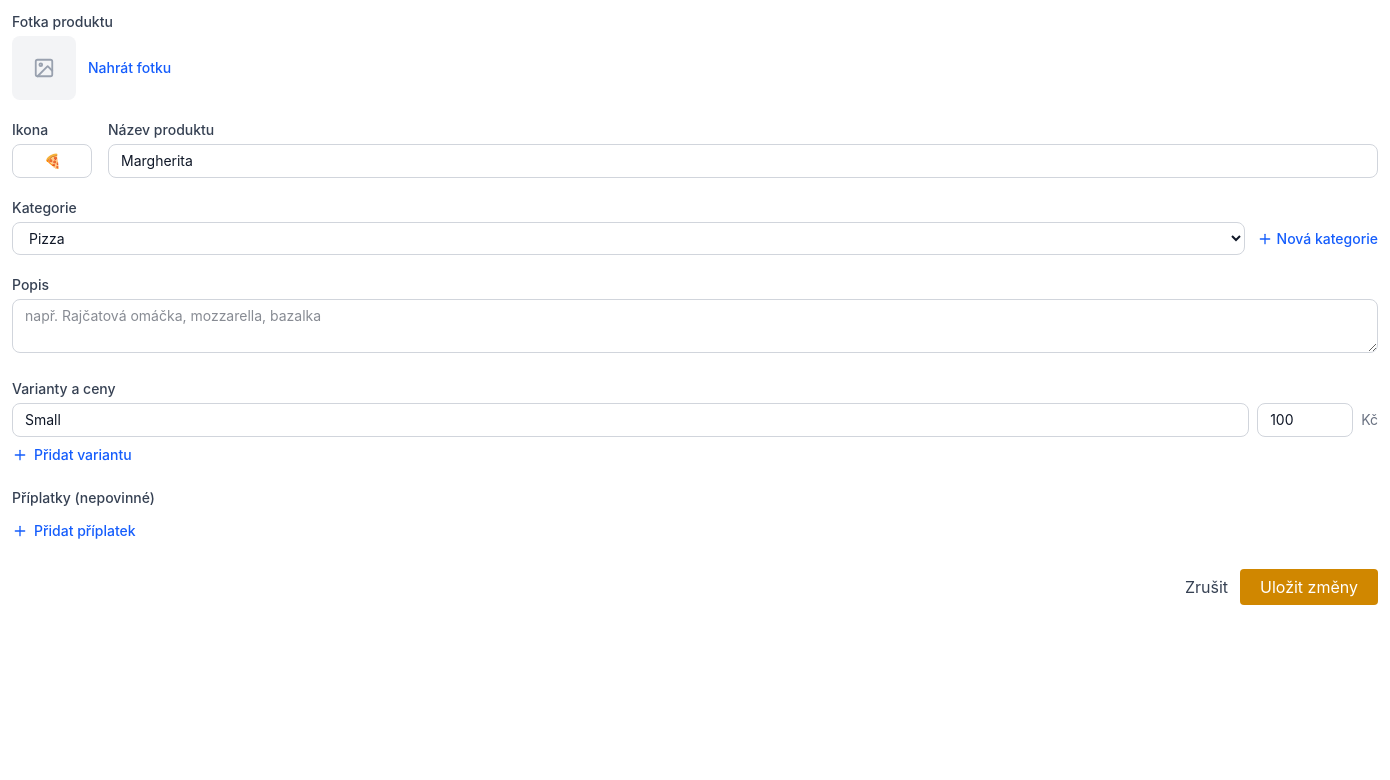
ProductForm price input › clearing an existing price empties the field instead of snapping back to 0
Step 1. Click the number field → [1305, 420], box top-left (1257, 403), bottom-right (1353, 437)
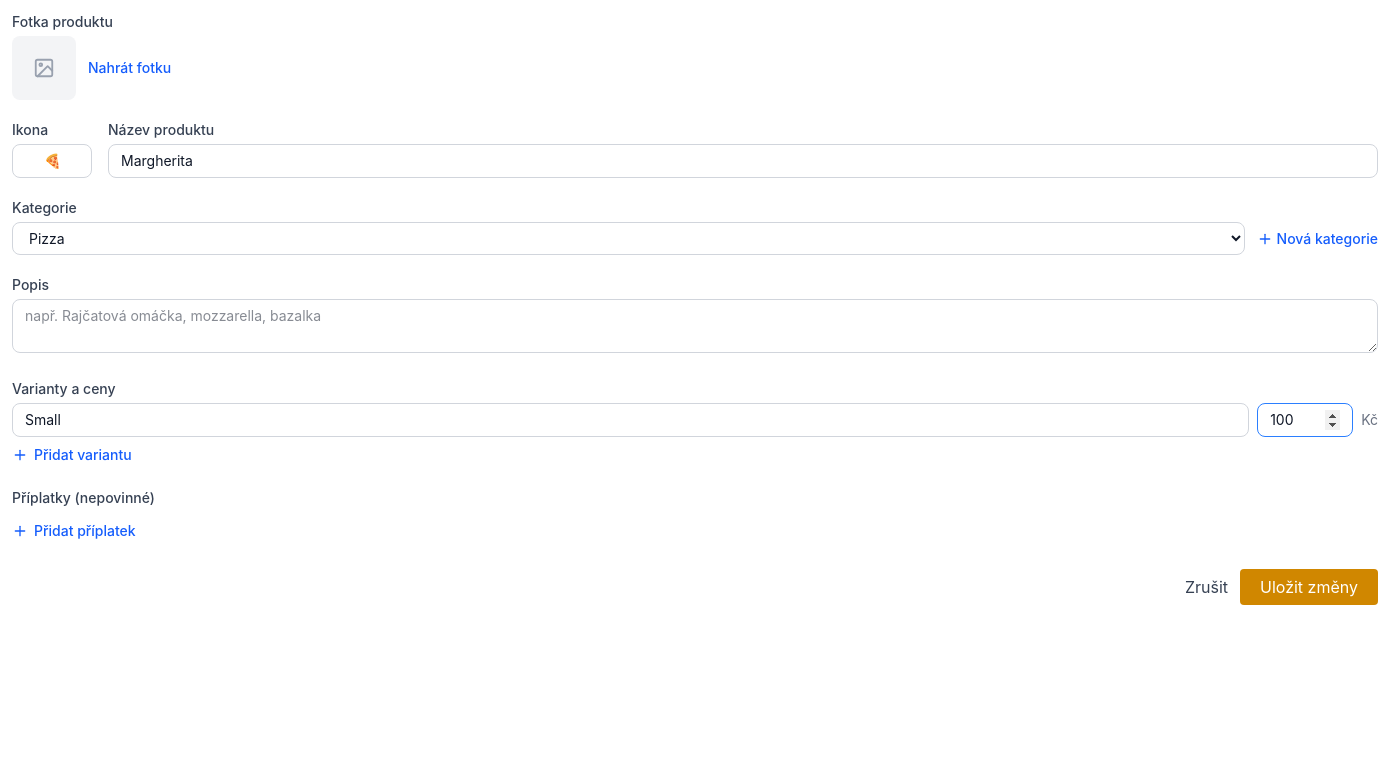
Step 2. Press End Backspace Backspace Backspace
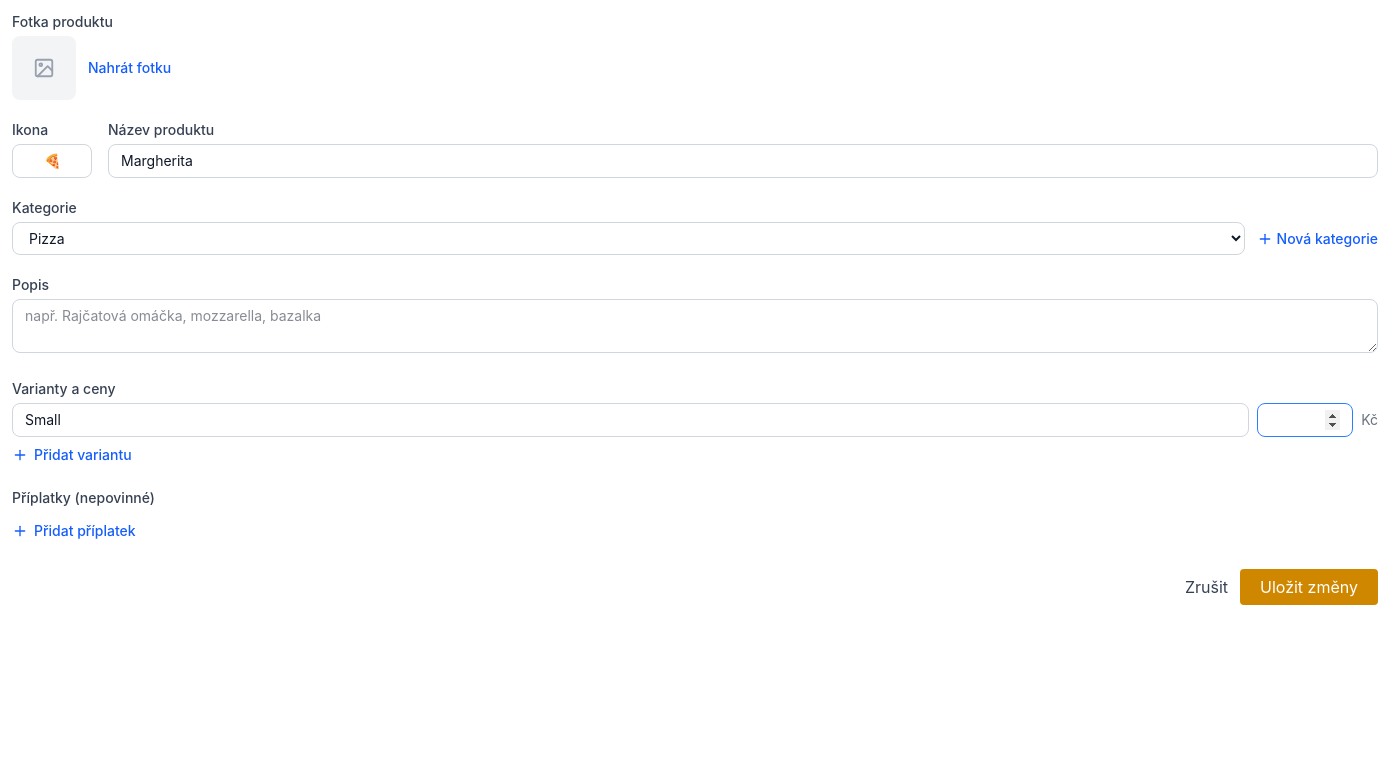
Expected: the number field is not empty, top-left (1257, 403), bottom-right (1353, 437)
